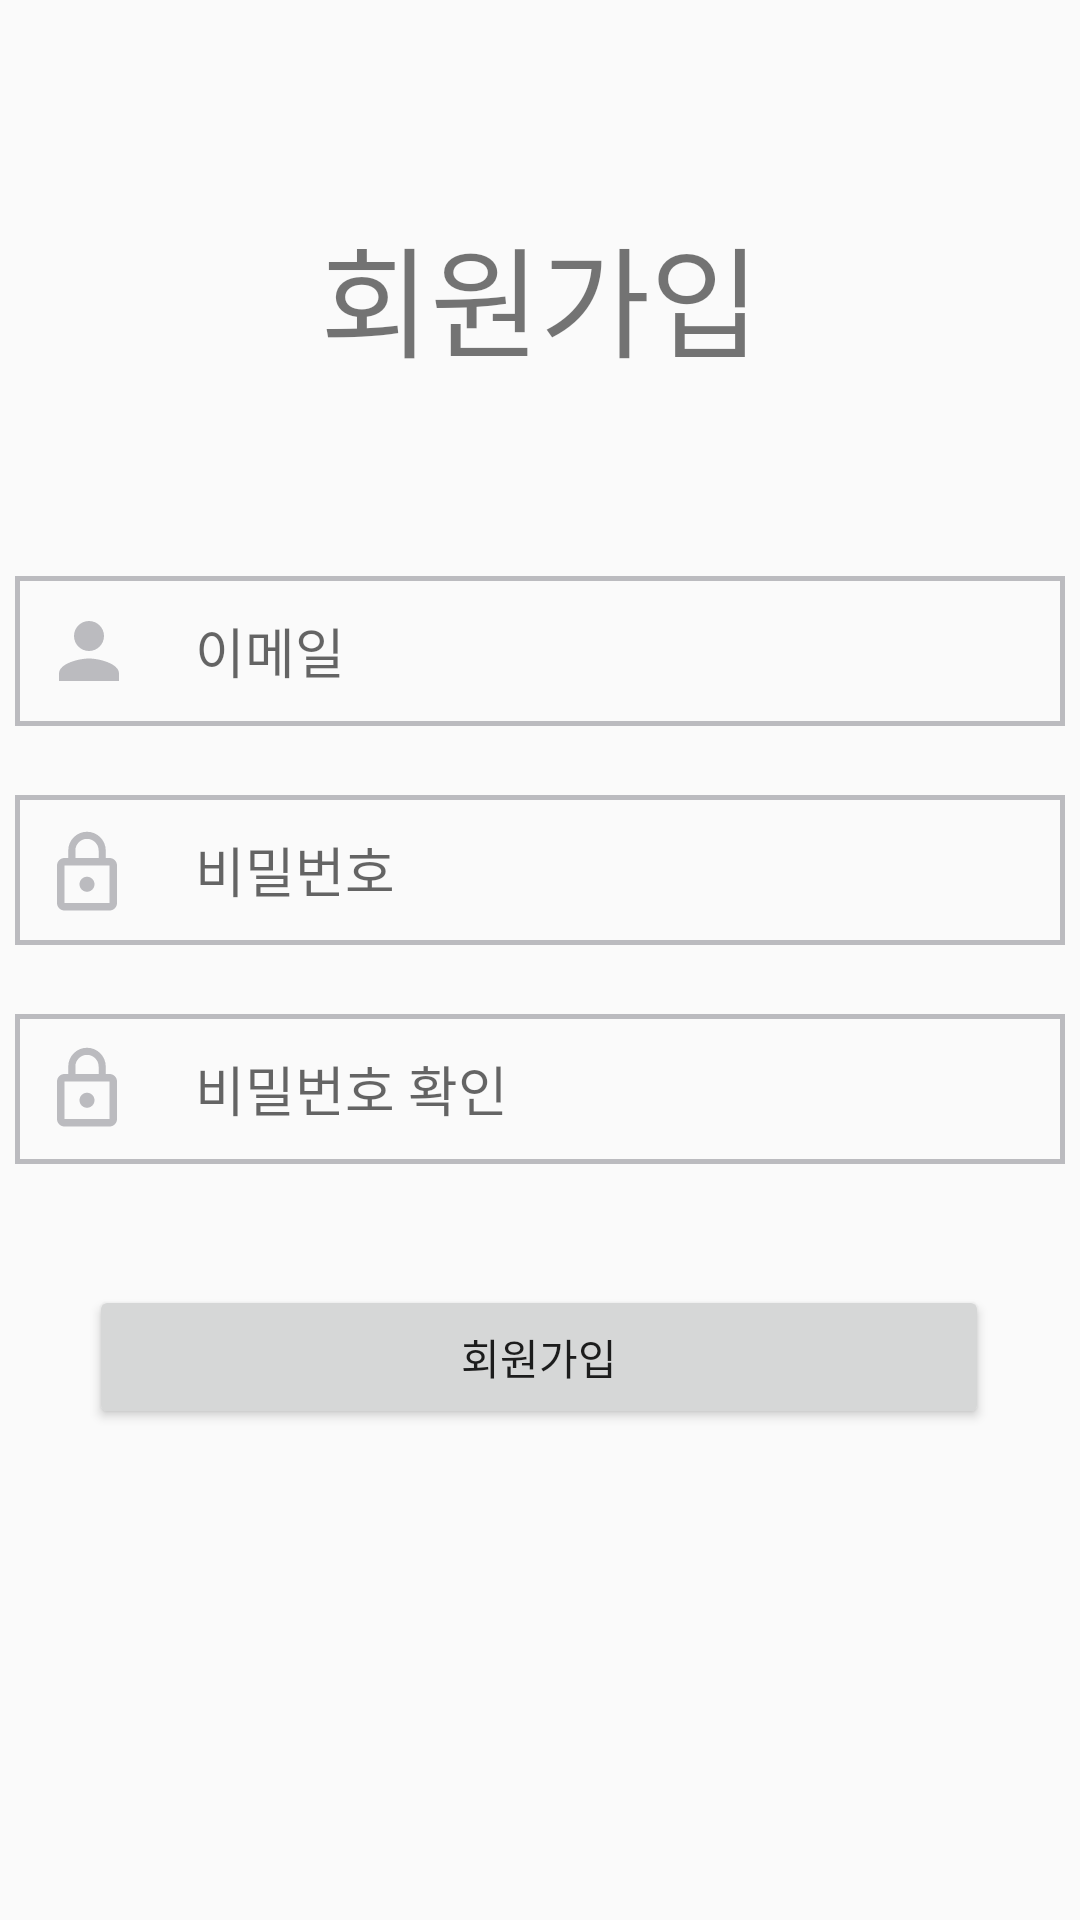

Icon bounding boxes for this 1080px x 1920px phone screenshot, format (x1, y1, x2, y2):
lock: (57, 832, 117, 911), (57, 1048, 117, 1127)
person: (59, 621, 119, 681)
